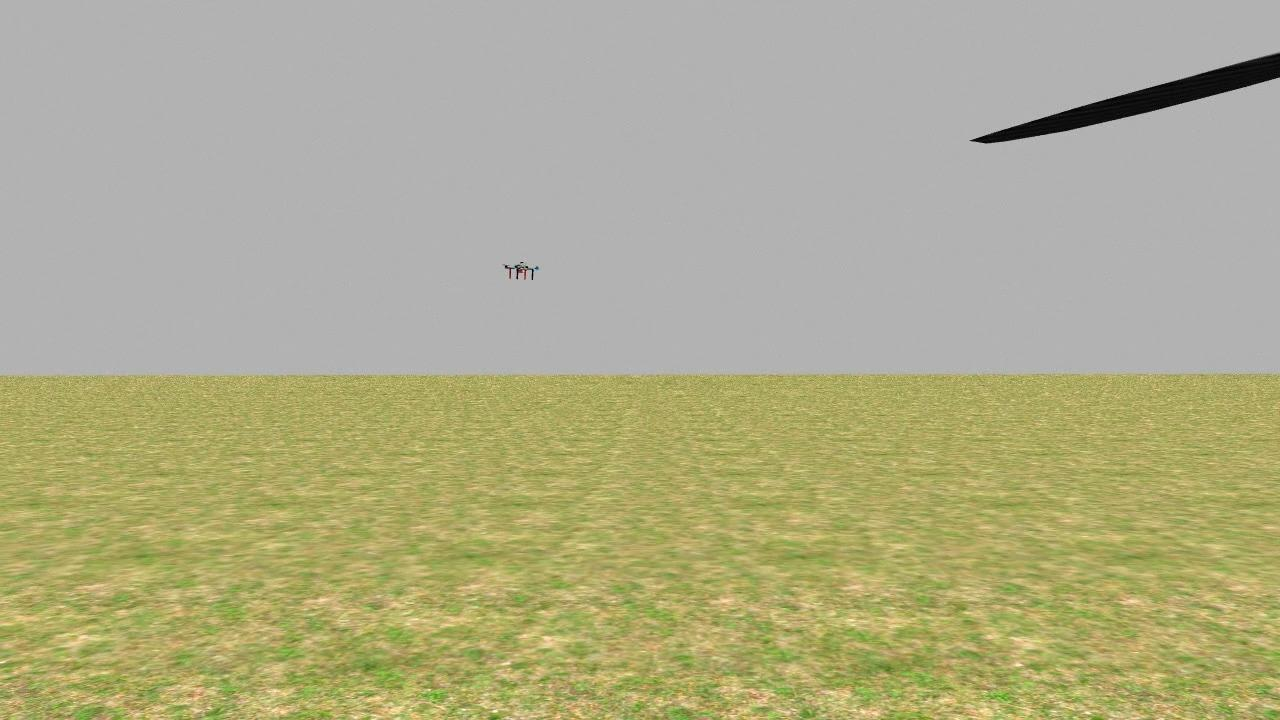UAV: (497, 252, 540, 290)
